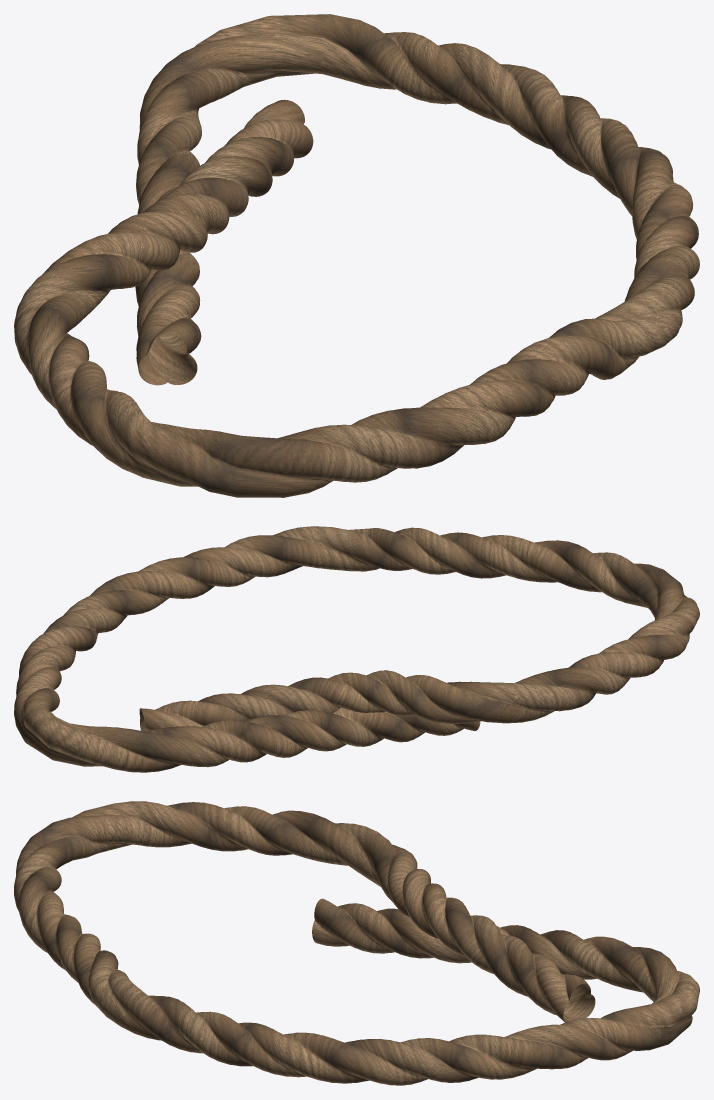
The model's file is Rope.fbx.
The picture shows the model from 3 angles, top to bottom: view 1: azimuth 30°, elevation 25°; view 2: azimuth 150°, elevation 25°; view 3: azimuth 270°, elevation 25°; orthographic projection. The views are drawn at different scales.
Parts seen in each view (by area): view 1: Circle.001; view 2: Circle.001; view 3: Circle.001.
Boxes of the visible parts, x1,y1,x2,y2 form: Circle.001: (14,14,699,497); Circle.001: (14,526,699,772); Circle.001: (14,801,699,1085).
Bounding box in the file's own units: 3679 × 576 × 4211.
